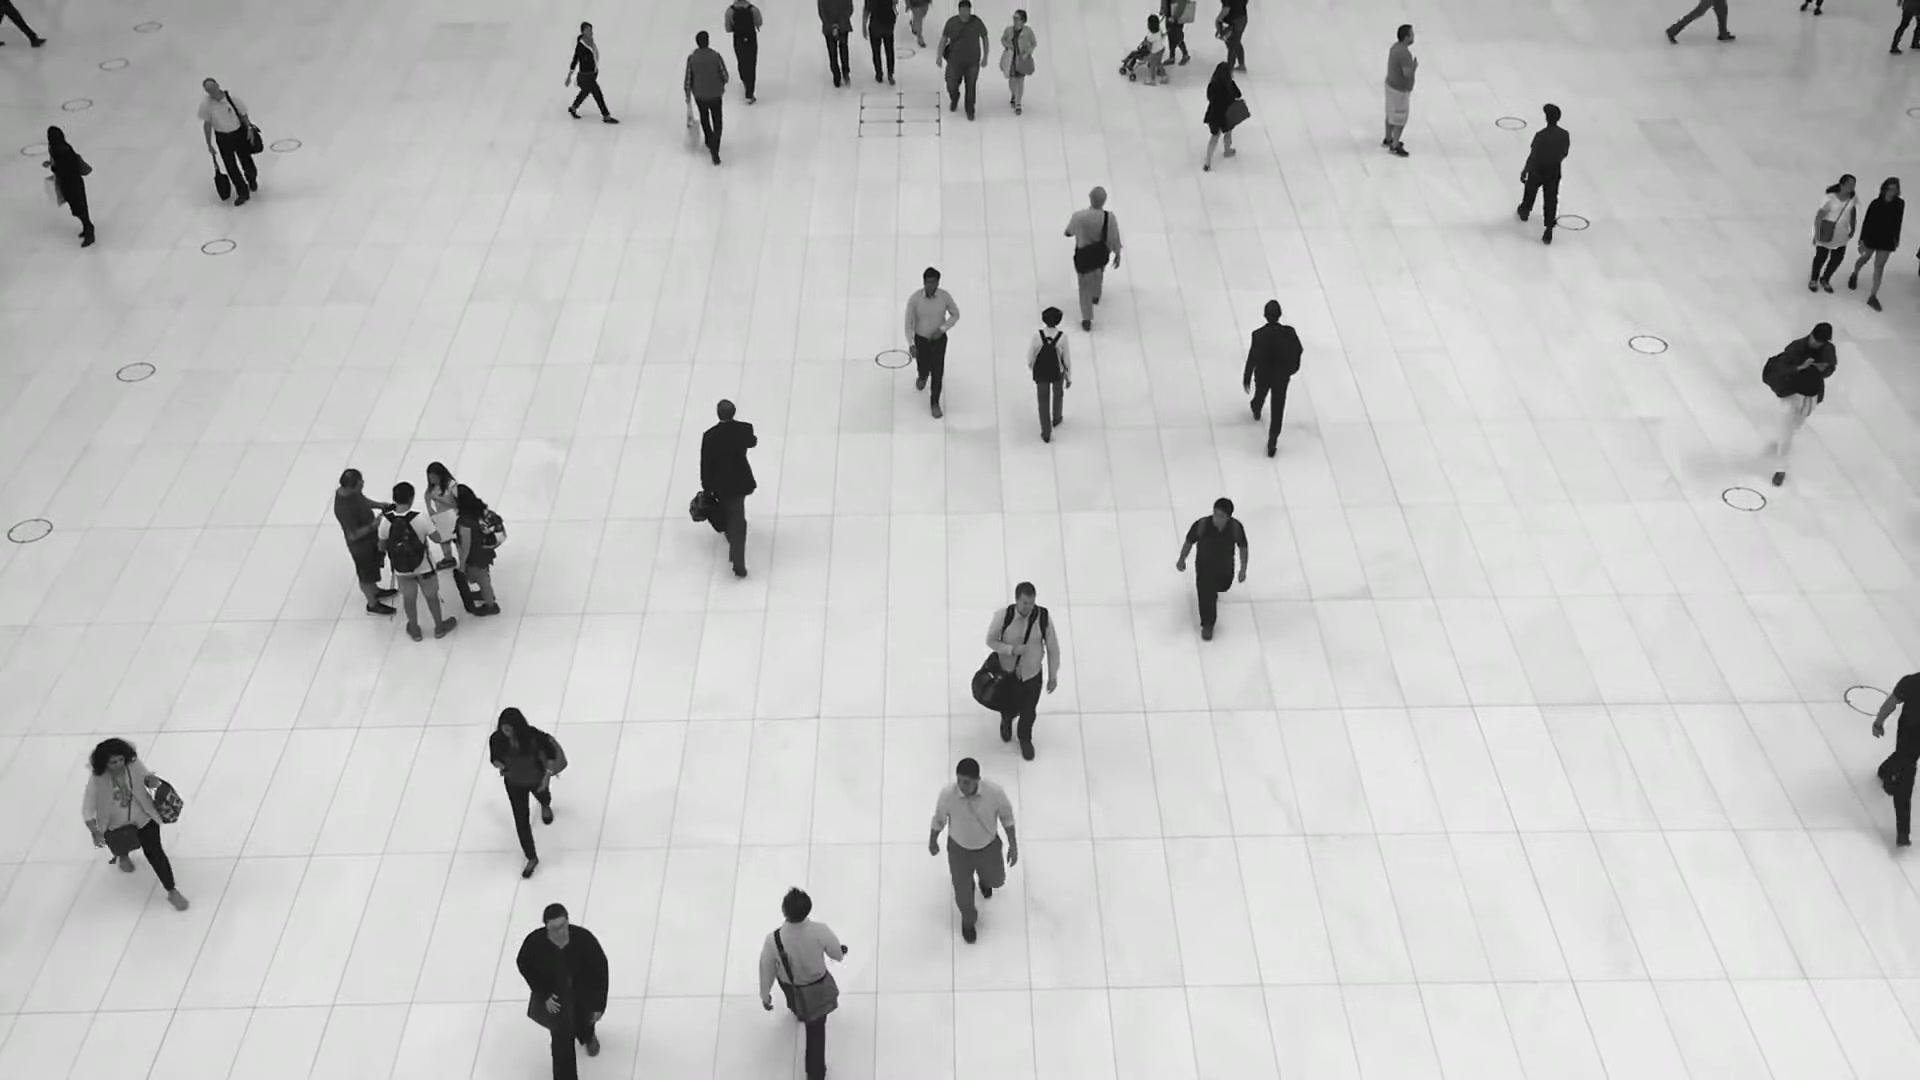person: (513, 898, 615, 1079), (928, 755, 1020, 953), (76, 732, 174, 901), (757, 887, 848, 1068), (983, 582, 1059, 770), (488, 702, 566, 870), (377, 481, 459, 641), (1761, 319, 1839, 481), (698, 399, 761, 578), (1176, 495, 1250, 643), (1240, 297, 1307, 451), (333, 467, 400, 615), (902, 265, 960, 424), (1061, 184, 1123, 327), (1515, 102, 1573, 243), (198, 78, 257, 209), (1849, 174, 1905, 308), (449, 483, 501, 616), (1801, 173, 1858, 295), (935, 0, 990, 121), (42, 125, 96, 248), (1024, 305, 1074, 441), (683, 31, 730, 166), (563, 20, 619, 125), (1381, 23, 1420, 157), (1201, 61, 1242, 172), (723, 0, 767, 100), (422, 460, 459, 580), (999, 9, 1037, 118), (1143, 13, 1169, 85)
